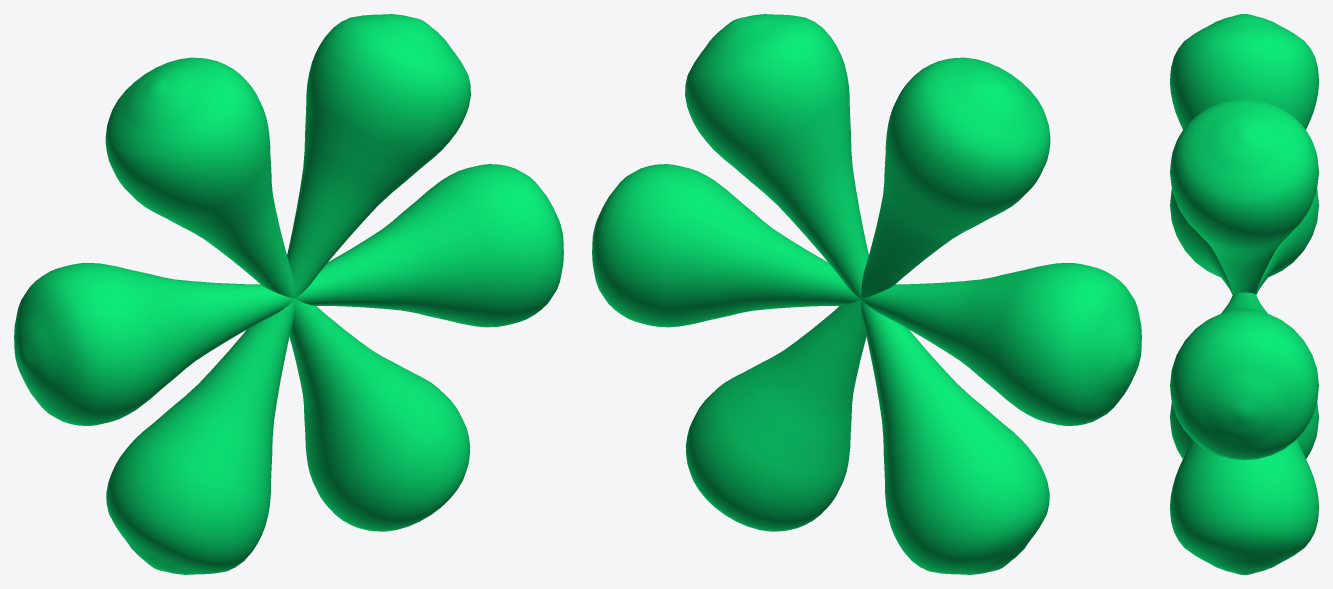
File: orbital_F_2.fbx
The picture shows the model from 3 angles, left to right: view 1: azimuth 30°, elevation 25°; view 2: azimuth 150°, elevation 25°; view 3: azimuth 270°, elevation 25°; orthographic projection. The views are drawn at different scales.
Visible parts, largest first — view 1: Torus.003; view 2: Torus.003; view 3: Torus.003.
Part boxes in pixels (<box>): Torus.003: <box>14,14,563,574</box>; Torus.003: <box>592,14,1141,574</box>; Torus.003: <box>1170,14,1318,574</box>.
Size of the model in its own units: 15.08 by 13.48 by 3.99.
